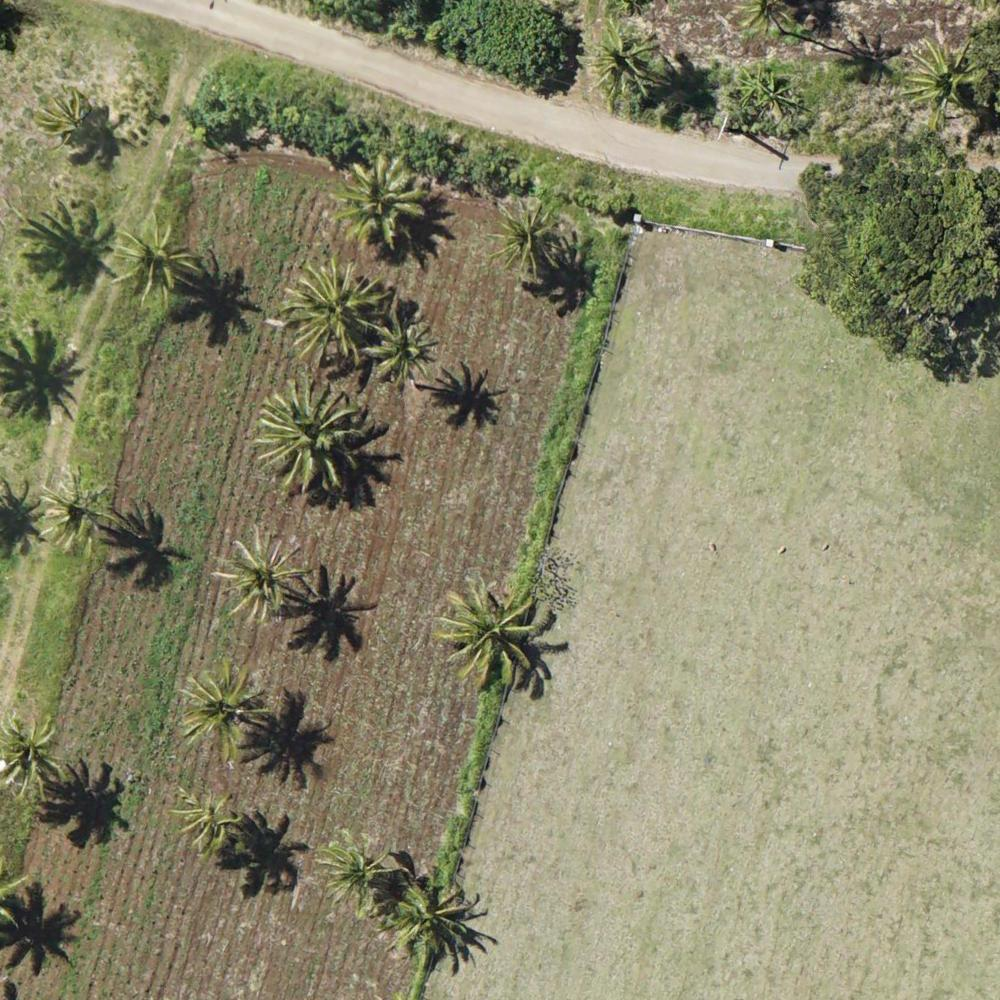Palm: (441, 584, 548, 684), (258, 377, 354, 484), (286, 261, 384, 365), (390, 875, 487, 968), (211, 528, 305, 619), (328, 155, 423, 242), (179, 666, 263, 756), (115, 216, 196, 306), (578, 21, 662, 106), (903, 38, 985, 122), (36, 474, 117, 555), (315, 834, 392, 916), (487, 198, 565, 278), (364, 314, 435, 385), (174, 788, 235, 854), (30, 85, 88, 147)
